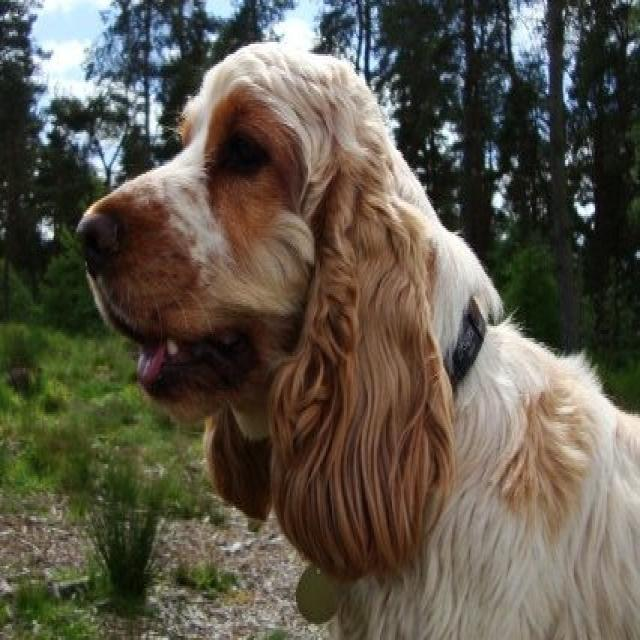dog-english_cocker_spaniel: (63, 32, 637, 636)
